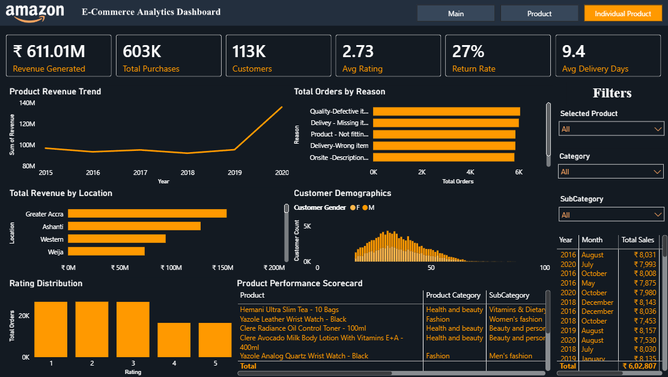

The page's visual inventory and layout, read from the dashboard file:
{"tool":"powerbi","page":{"name":"Individual Product","canvas":[1280,720],"ordinal":2},"visuals":[{"type":"image","box":[0,0,1280,720],"z":0},{"type":"cardVisual","fields":{"Data":["Orders.Total Revenue","Orders.Total Purchases","Orders.Customer Purchasing","Orders.Avg Rating","Orders.Return Rate","Orders.Avg Delivery Days"]},"box":[0,50,1280,114.3],"z":1000},{"type":"slicer","fields":{"Values":["Orders.Product"]},"box":[1058.6,202.7,221.4,81.4],"z":2000},{"type":"textbox","box":[1084.3,156.7,172.9,42.9],"z":3000},{"type":"lineChart","title":"Product Revenue Trend","fields":{"Y":["Sum(Orders.Revenue)"],"Category":["DateTable.Date.Variation.Date Hierarchy.Year"]},"box":[18.6,164.3,541.4,192.9],"z":4000},{"type":"clusteredBarChart","fields":{"Category":["Orders.Reason"],"Y":["Orders.Total Orders"]},"box":[560,164.3,498.6,192.9],"z":5000},{"type":"clusteredBarChart","fields":{"Category":["Orders.Location"],"Y":["Orders.Total Revenue"]},"box":[18.6,357.1,541.4,171.4],"z":6000},{"type":"tableEx","title":"Product Performance Scorecard","fields":{"Values":["Orders.Product","Orders.Product Category","Orders.SubCategory","Orders.Total Revenue","Orders.Total Purchases","Orders.Avg Rating","Orders.Return Rate","Orders.Avg Delivery Days"]},"box":[451.2,528.8,606.2,191.2],"z":7000},{"type":"clusteredColumnChart","title":"Rating Distribution","fields":{"Category":["Orders.Rating"],"Y":["Orders.Total Orders"]},"box":[18.6,528.6,432.9,191.4],"z":8000},{"type":"slicer","fields":{"Values":["Orders.Product Category"]},"box":[1057.1,283.9,221.4,81.4],"z":9000},{"type":"slicer","fields":{"Values":["Orders.SubCategory"]},"box":[1058.6,365.3,221.4,81.4],"z":10000},{"type":"columnChart","title":"Customer Demographics","fields":{"Category":["Customers.Customer Age"],"Y":["Orders.Customer Purchasing"],"Series":["Customers.Customer Gender"]},"box":[560,357.1,497.1,171.4],"z":11000},{"type":"pageNavigator","box":[798.8,10,468.8,32.5],"z":12000},{"type":"tableEx","fields":{"Values":["DateTable.Year","DateTable.Month","Orders.Total Sales","Orders.Previous Year Sales"]},"box":[1058.6,442.9,221.4,277.1],"z":13000}]}

Visuals, with their boxes in screenshot pixels (x1, y1, x2, y2), scaled from the page's 1280x720 canvas onto the 668x377 screenshot:
image: <box>0,0,667,376</box>
cardVisual - Orders.Total Revenue x Orders.Total Purchases: <box>0,26,667,86</box>
slicer - Orders.Product: <box>552,106,667,149</box>
textbox: <box>566,82,656,105</box>
"Product Revenue Trend" lineChart: <box>10,86,292,187</box>
clusteredBarChart - Orders.Reason x Orders.Total Orders: <box>292,86,552,187</box>
clusteredBarChart - Orders.Location x Orders.Total Revenue: <box>10,187,292,277</box>
"Product Performance Scorecard" tableEx: <box>235,277,552,376</box>
"Rating Distribution" clusteredColumnChart: <box>10,277,236,376</box>
slicer - Orders.Product Category: <box>552,149,667,191</box>
slicer - Orders.SubCategory: <box>552,191,667,234</box>
"Customer Demographics" columnChart: <box>292,187,552,277</box>
pageNavigator: <box>417,5,662,22</box>
tableEx - DateTable.Year x DateTable.Month: <box>552,232,667,376</box>
